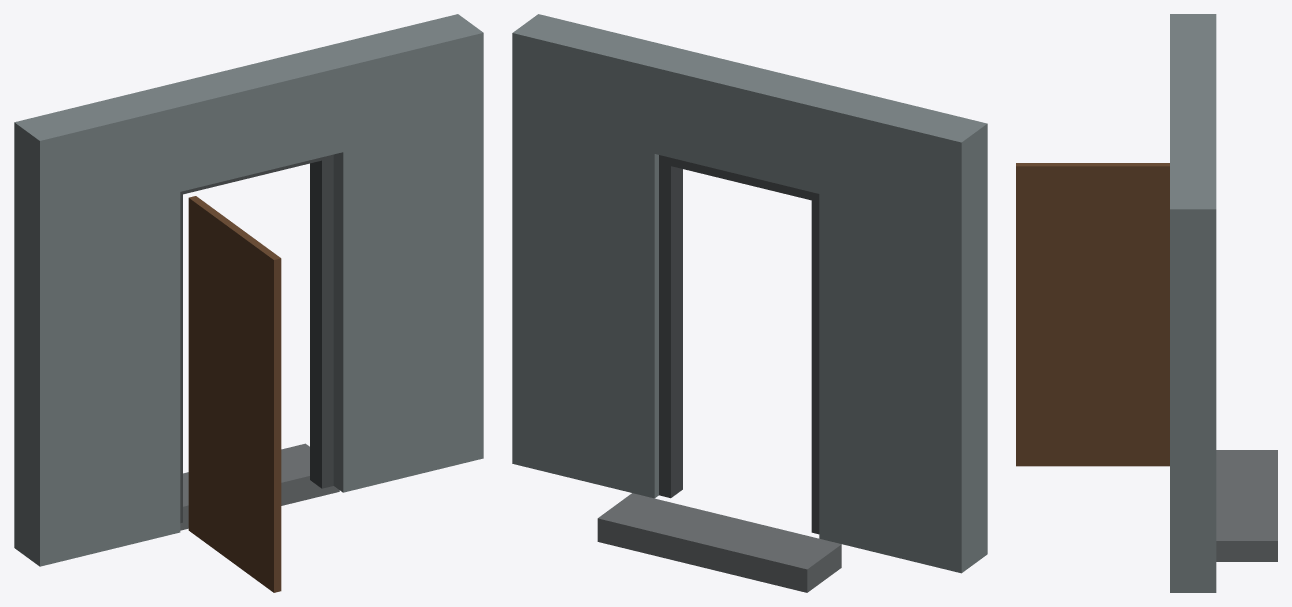
File: Kit_metal_door.fbx
3 renders of one model, left to right at view 1: azimuth 30°, elevation 25°; view 2: azimuth 150°, elevation 25°; view 3: azimuth 270°, elevation 25°, orthographic. The views are drawn at different scales.
Parts seen in each view (by area): view 1: WallJambL, WallJambR, DoorLeaf, WallAbove, FrameR, Step, FrameL; view 2: WallJambL, WallJambR, WallAbove, Step, FrameR, FrameL, FrameTop; view 3: DoorLeaf, WallJambR, Step, WallAbove, WallJambL.
Part boxes in pixels (<box>): WallJambL: <box>14,88,180,566</box>; WallJambR: <box>318,14,483,492</box>; DoorLeaf: <box>188,196,281,592</box>; WallAbove: <box>155,48,343,191</box>; FrameR: <box>310,154,333,488</box>; Step: <box>180,443,339,530</box>; FrameL: <box>180,191,182,523</box>; WallJambL: <box>819,89,987,573</box>; WallJambR: <box>512,14,679,498</box>; WallAbove: <box>654,48,844,193</box>; Step: <box>597,493,841,592</box>; FrameR: <box>659,155,682,498</box>; FrameL: <box>811,192,819,534</box>; FrameTop: <box>662,157,816,200</box>; DoorLeaf: <box>1016,163,1169,466</box>; WallJambR: <box>1170,147,1216,592</box>; Step: <box>1216,450,1277,561</box>; WallAbove: <box>1170,75,1216,147</box>; WallJambL: <box>1170,14,1216,75</box>.
Bounding box in the file's own units: 300 × 170 × 290.
